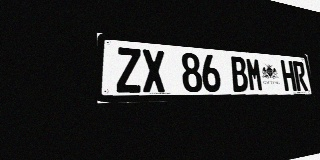6: (200, 54, 221, 92)
8: (180, 52, 203, 92)
B: (229, 56, 249, 92)
H: (280, 60, 297, 91)
M: (245, 57, 264, 92)
R: (292, 61, 308, 91)
X: (141, 49, 166, 93)
Z: (116, 47, 142, 93)
